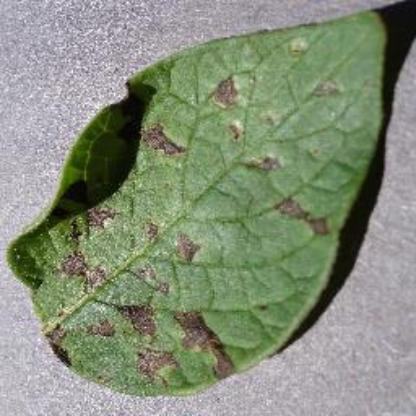Early-Blight: (8, 5, 412, 400)
